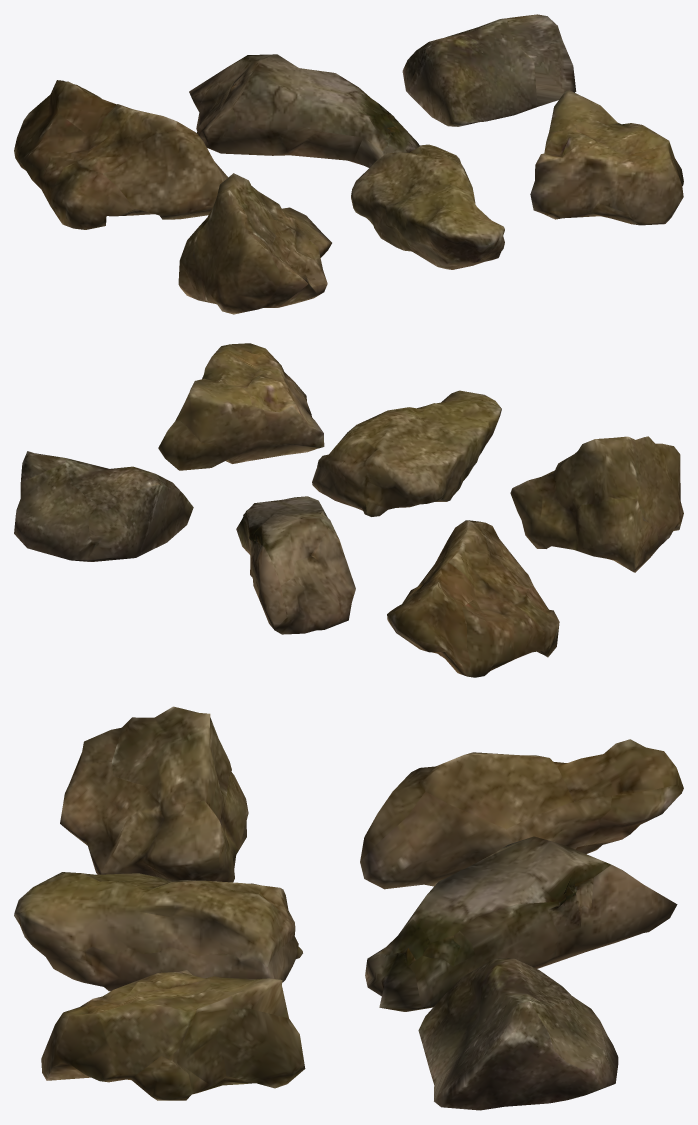
The model's file is mossrock_a_lod1.glb.
The picture shows the model from 3 angles, top to bottom: view 1: azimuth 30°, elevation 25°; view 2: azimuth 150°, elevation 25°; view 3: azimuth 270°, elevation 25°; orthographic projection. The views are drawn at different scales.
Visible parts, largest first — view 1: rock_moss_set_01_rock01, rock_moss_set_01_rock02, rock_moss_set_01_rock06, rock_moss_set_01_rock04, rock_moss_set_01_rock03, rock_moss_set_01_rock05; view 2: rock_moss_set_01_rock04, rock_moss_set_01_rock01, rock_moss_set_01_rock05, rock_moss_set_01_rock03, rock_moss_set_01_rock06, rock_moss_set_01_rock02; view 3: rock_moss_set_01_rock01, rock_moss_set_01_rock02, rock_moss_set_01_rock05, rock_moss_set_01_rock06, rock_moss_set_01_rock04, rock_moss_set_01_rock03.
Boxes of the visible parts, x1,y1,x2,y2 form: rock_moss_set_01_rock01: [14, 80, 227, 229]; rock_moss_set_01_rock02: [189, 54, 419, 167]; rock_moss_set_01_rock06: [530, 90, 683, 225]; rock_moss_set_01_rock04: [178, 173, 331, 314]; rock_moss_set_01_rock03: [402, 14, 576, 126]; rock_moss_set_01_rock05: [351, 144, 504, 269]; rock_moss_set_01_rock04: [510, 436, 683, 572]; rock_moss_set_01_rock01: [387, 520, 559, 677]; rock_moss_set_01_rock05: [312, 390, 501, 516]; rock_moss_set_01_rock03: [14, 451, 193, 561]; rock_moss_set_01_rock06: [158, 343, 324, 470]; rock_moss_set_01_rock02: [236, 496, 355, 634]; rock_moss_set_01_rock01: [360, 739, 683, 889]; rock_moss_set_01_rock02: [365, 836, 677, 1011]; rock_moss_set_01_rock05: [14, 872, 302, 991]; rock_moss_set_01_rock06: [41, 970, 305, 1100]; rock_moss_set_01_rock04: [60, 706, 248, 882]; rock_moss_set_01_rock03: [418, 958, 618, 1110].
Size of the model in its own units: 8 by 1.76 by 6.94.
1 material, 1 textured.
